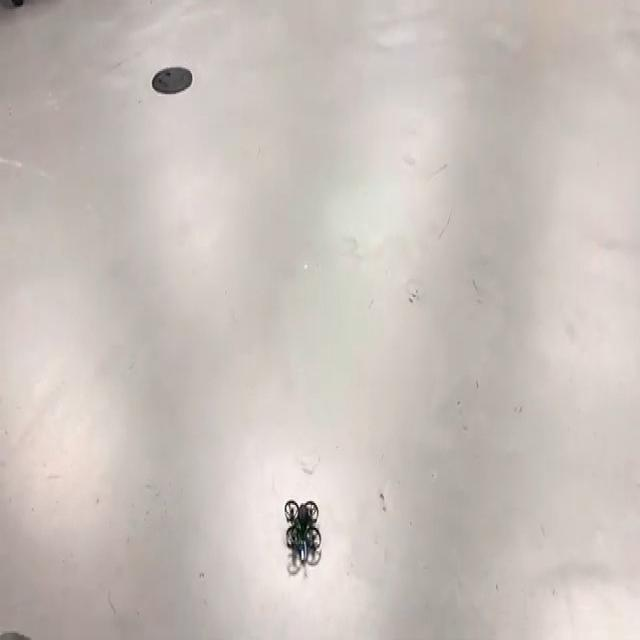drone: (274, 482, 338, 580)
